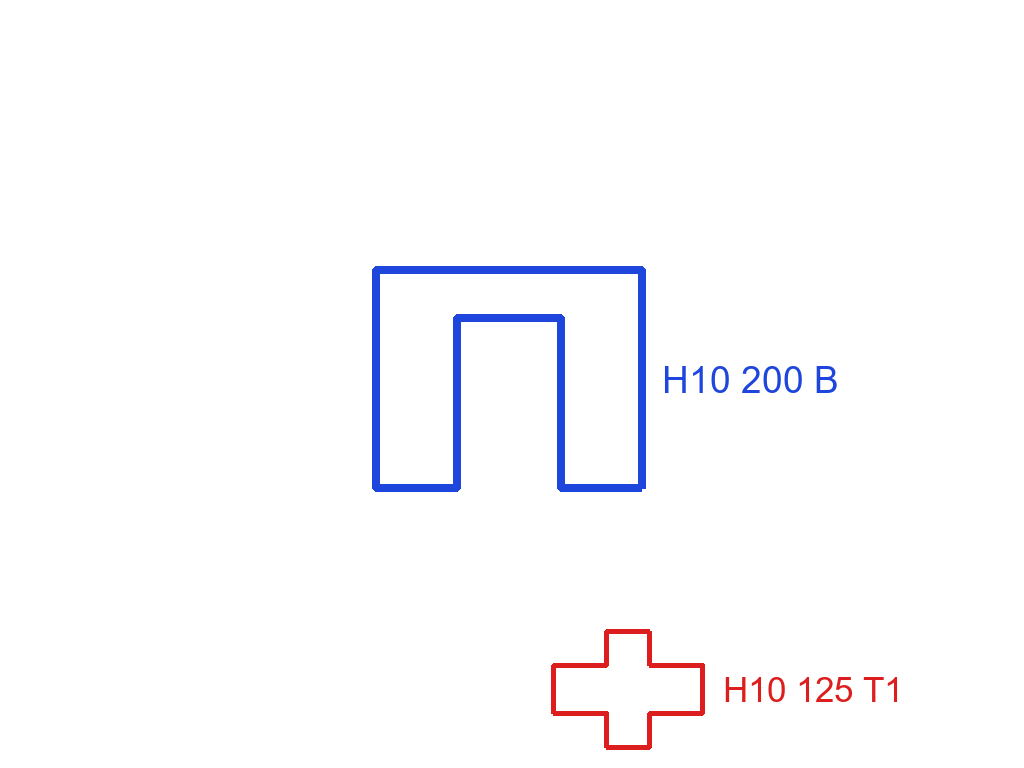shape: (370, 264, 648, 494), (549, 627, 707, 752)
text: (660, 364, 841, 395), (721, 675, 905, 704)
